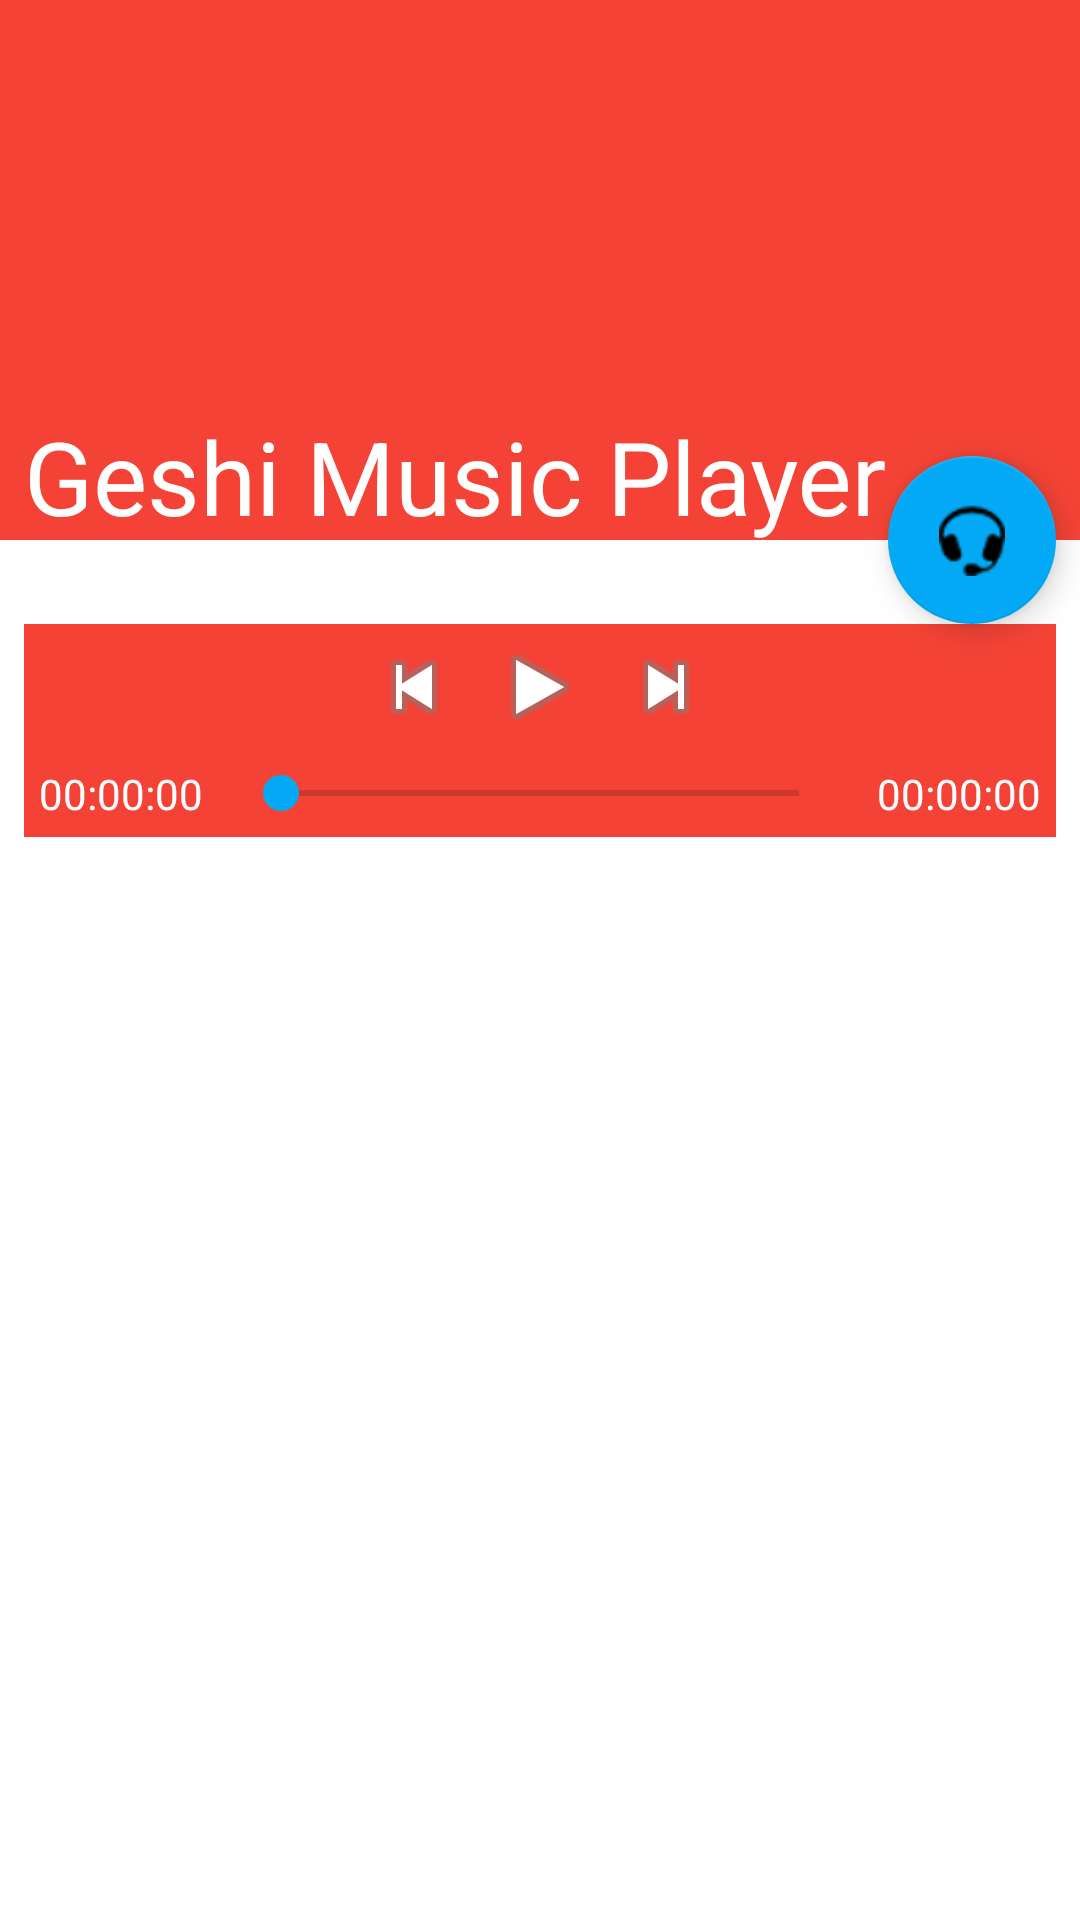

Icon bounding boxes for this 1080px x 1920px phone screenshot, format (x1, y1, x2, y2):
headset: (888, 456, 1056, 624)
next: (643, 660, 689, 714)
play: (511, 655, 569, 719)
previous: (391, 660, 437, 714)
